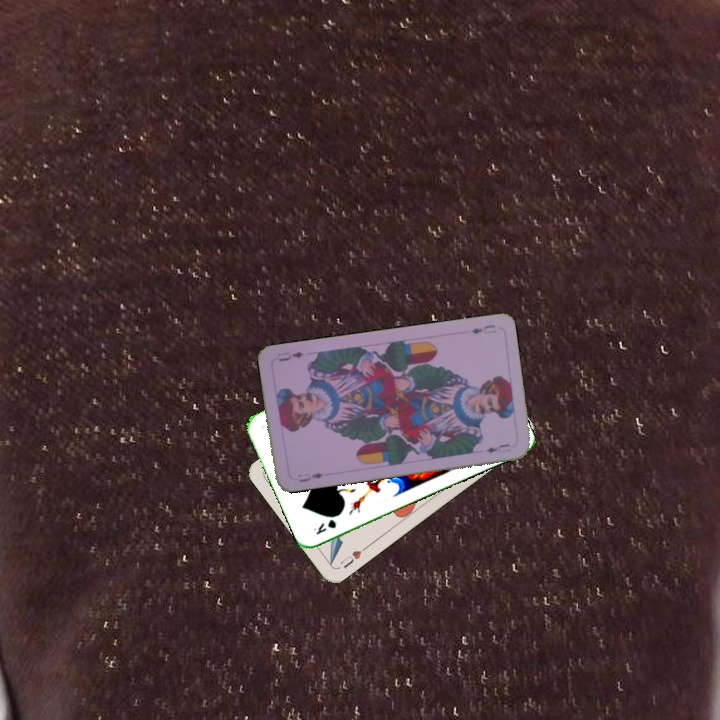EU: (294, 469, 326, 485), (467, 320, 499, 336)
GK: (309, 515, 339, 537)
HU: (336, 542, 370, 571)
